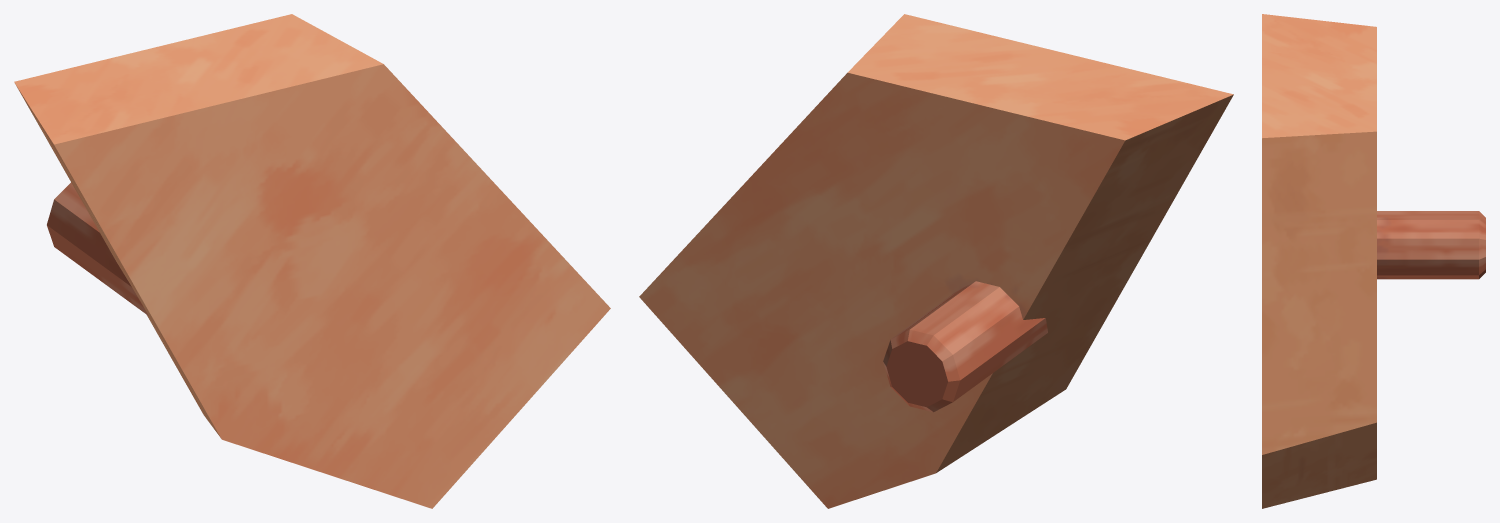
Rendered from wall_upper_s04.fbx.
The picture shows the model from 3 angles, left to right: view 1: azimuth 30°, elevation 25°; view 2: azimuth 150°, elevation 25°; view 3: azimuth 270°, elevation 25°; orthographic projection. The views are drawn at different scales.
Visible parts, largest first — view 1: wall_upper_s04; view 2: wall_upper_s04; view 3: wall_upper_s04.
Boxes of the visible parts, x1,y1,x2,y2 form: wall_upper_s04: (14,14,610,508); wall_upper_s04: (639,14,1233,508); wall_upper_s04: (1262,14,1485,508).
Size of the model in its own units: 4.32 by 3.39 by 1.95.
